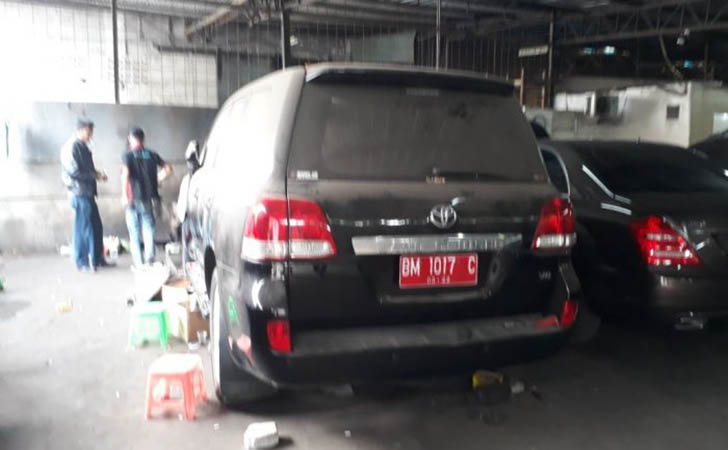plate: (400, 255, 476, 286)
